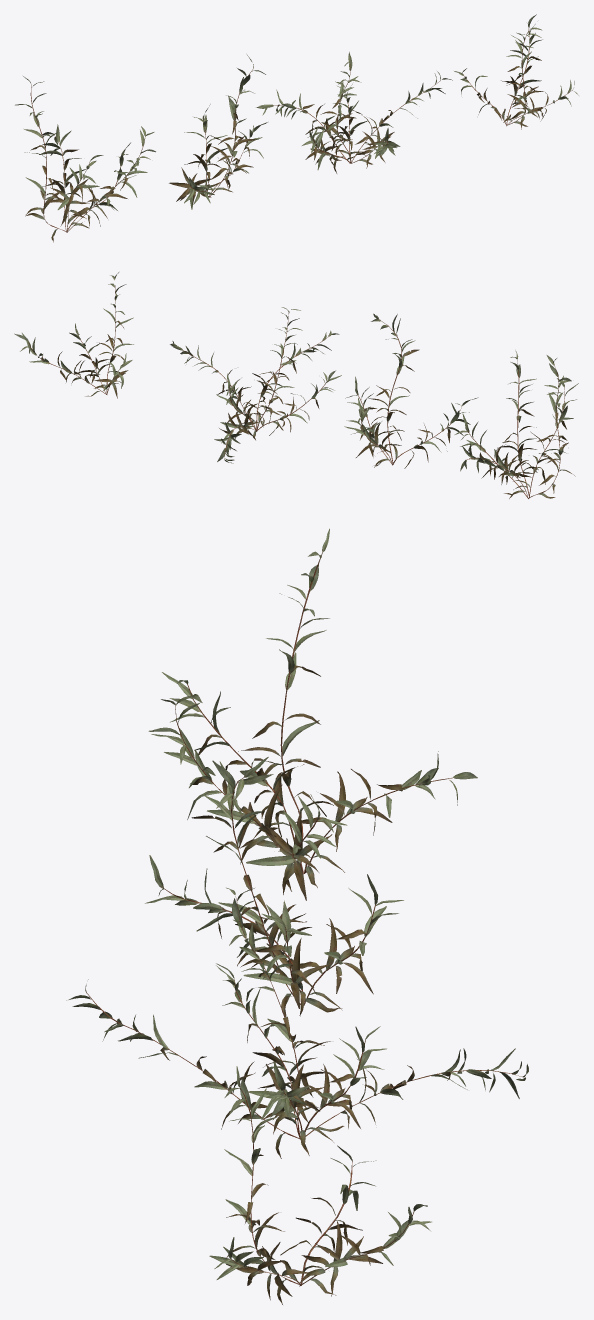
Rendered from shrub_02.glb.
3 views of the same model, one above another, from view 1: azimuth 30°, elevation 25°; view 2: azimuth 150°, elevation 25°; view 3: azimuth 270°, elevation 25° (orthographic). The views are drawn at different scales.
Parts seen in each view (by area): view 1: shrub_02_a, shrub_02_c, shrub_02_b, shrub_02_d; view 2: shrub_02_a, shrub_02_c, shrub_02_b, shrub_02_d; view 3: shrub_02_a, shrub_02_c, shrub_02_b, shrub_02_d.
Part boxes in pixels (x1,y1,x2,y2): shrub_02_a: (15,76,155,242); shrub_02_c: (256,52,452,173); shrub_02_b: (169,55,267,209); shrub_02_d: (454,14,578,129); shrub_02_a: (454,350,578,498); shrub_02_c: (170,307,341,463); shrub_02_b: (344,313,478,468); shrub_02_d: (14,272,133,398); shrub_02_a: (148,528,477,900); shrub_02_c: (66,887,528,1158); shrub_02_b: (145,757,403,1017); shrub_02_d: (209,1066,431,1304).
Size of the model in its own units: 6.04 by 1.7 by 2.29.
1 material, 1 textured.
